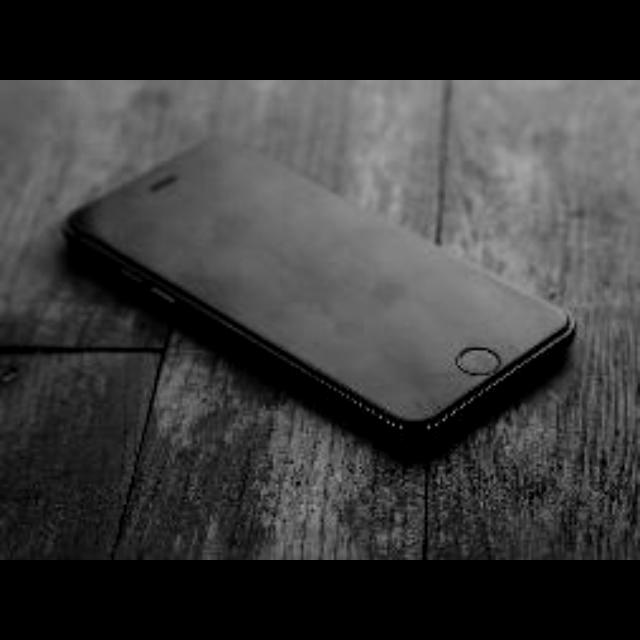fake: (11, 114, 595, 484)
